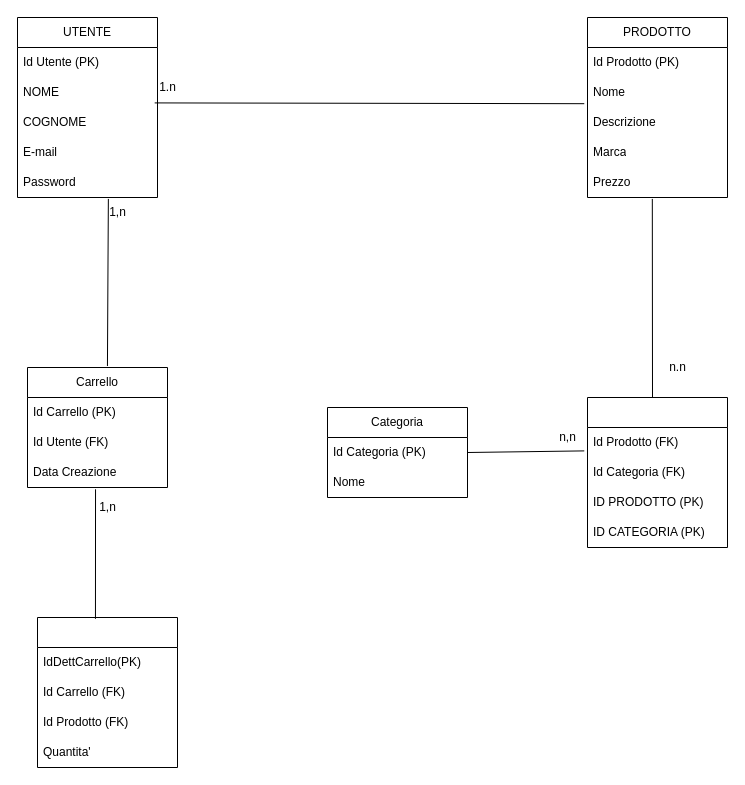
Image size: 745x785. Some labels were removed from this diagram. Each missing label, with the box of its shape:
Dettaglio Carrello: (36, 616, 178, 768)
Prodotto Categoria: (586, 396, 728, 548)
